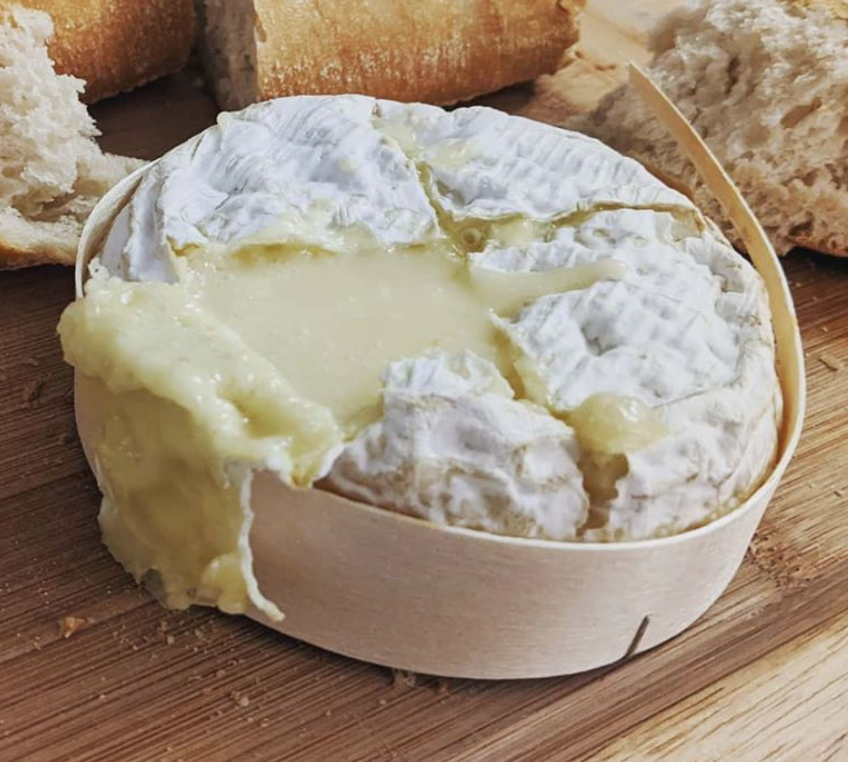camembert: (57, 92, 783, 623)
